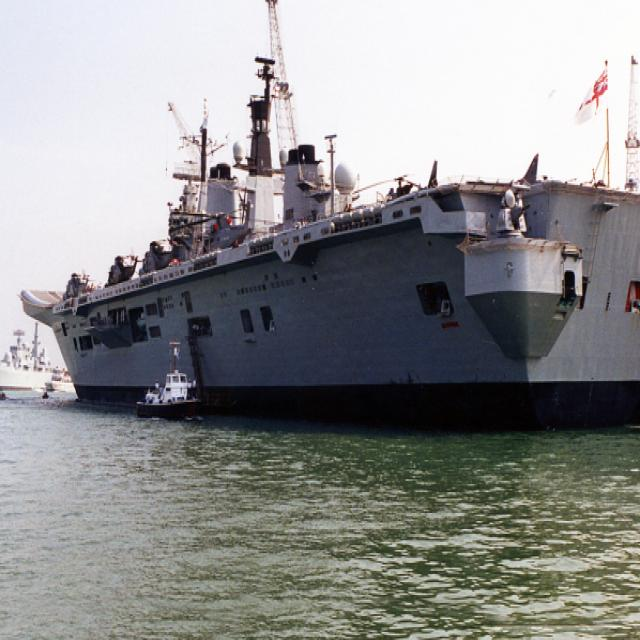Portanaves: (7, 1, 640, 440)
